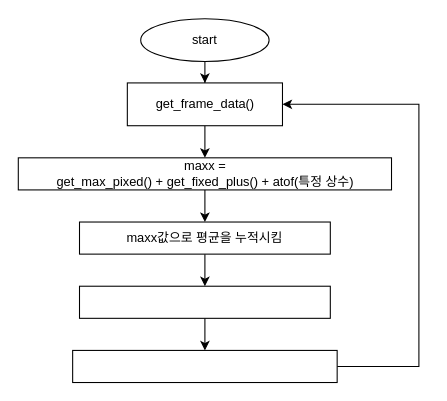
This 447x401 diagram has some shape labels left out. Here are the shapes that lost their labels. From the top down, the centre of each, then its label:
the point at 204,301: 경우에 따라 최대, 최소값 갱신
the point at 204,366: 누적 평균, 현재 거리, 누적 최대/최소값 출력
